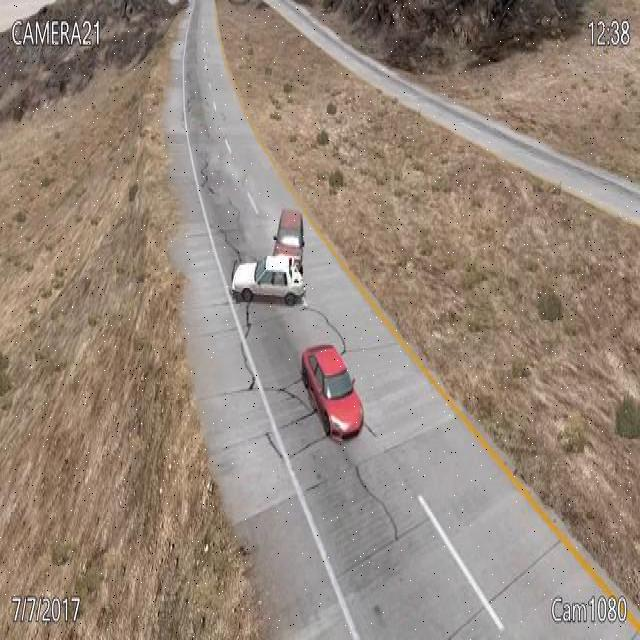moderate: (228, 202, 308, 308)
